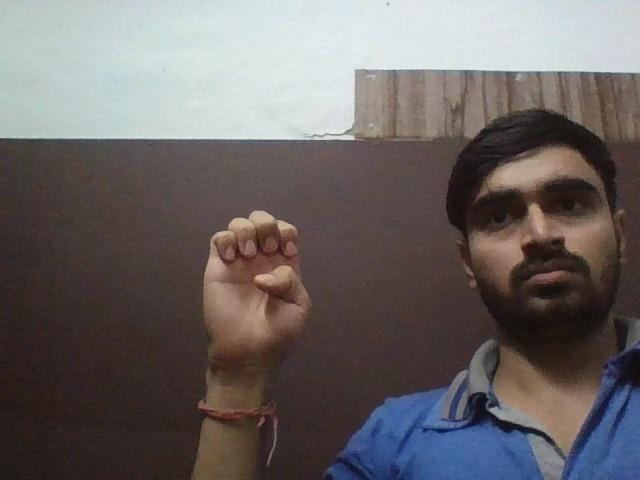E: (178, 208, 332, 377)
